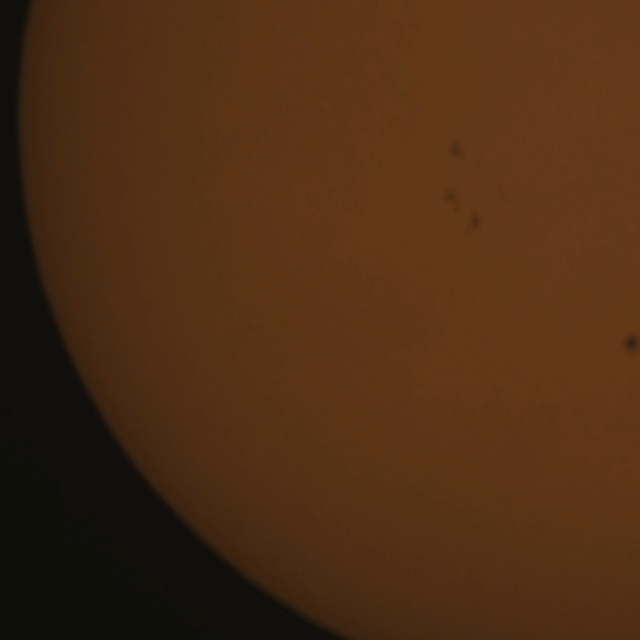sunspot: (441, 186, 462, 219), (463, 210, 484, 238), (616, 331, 639, 354), (446, 140, 467, 163)
